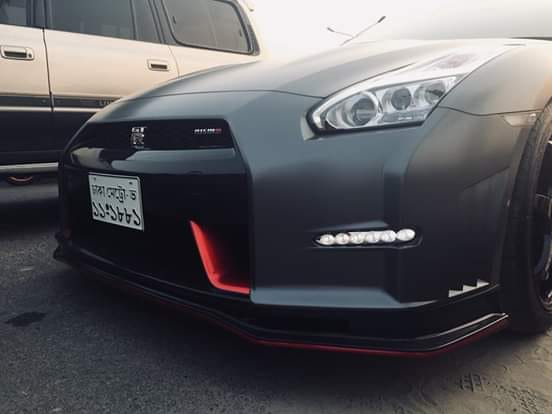registration_plate: (87, 172, 145, 232)
